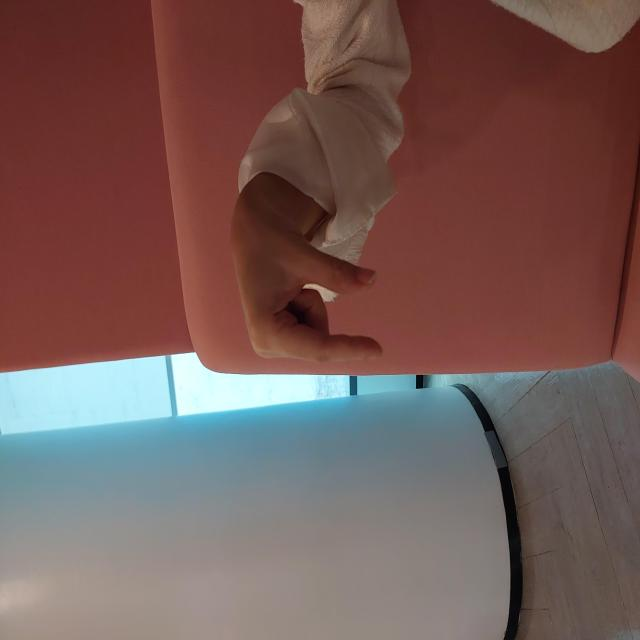Q: (278, 230, 420, 384)
